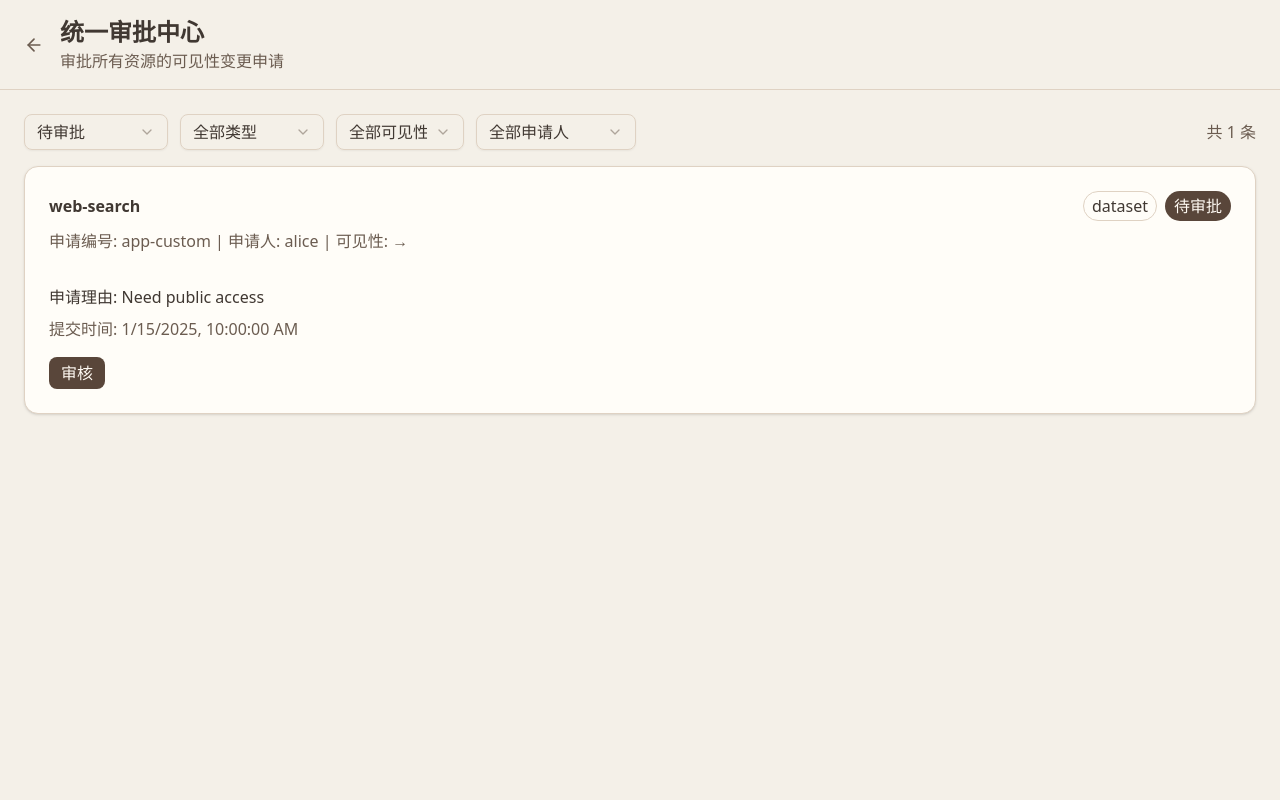
Test: VisibilityApplicationsPage › falls back to raw resource and visibility labels
Expected: the text "dataset" is shown, [1083,191,1157,221]
Click the button "审核".
click(77, 373)  # box [49,357,105,389]
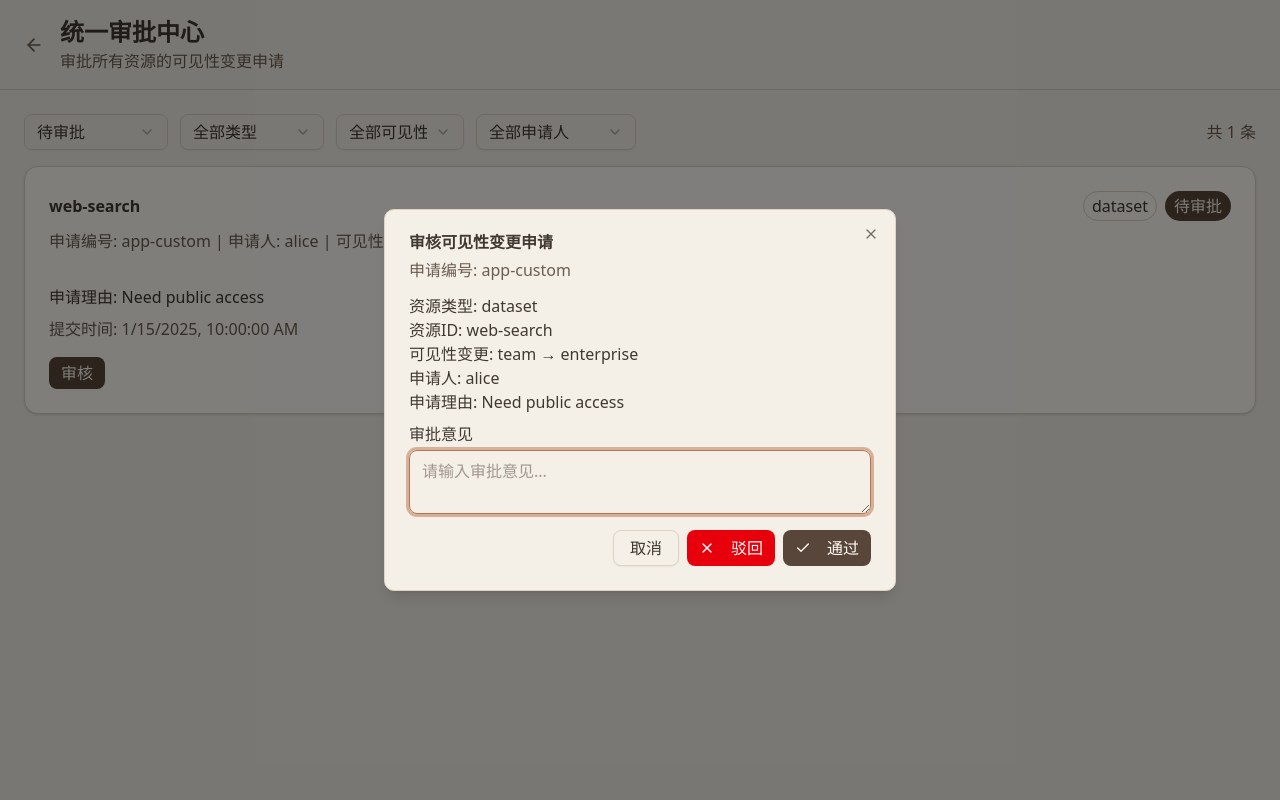
Result: the text "资源类型: dataset" is shown at [409,295,538,317]
Result: the text "可见性变更: team → enterprise" is shown at [409,343,638,365]
